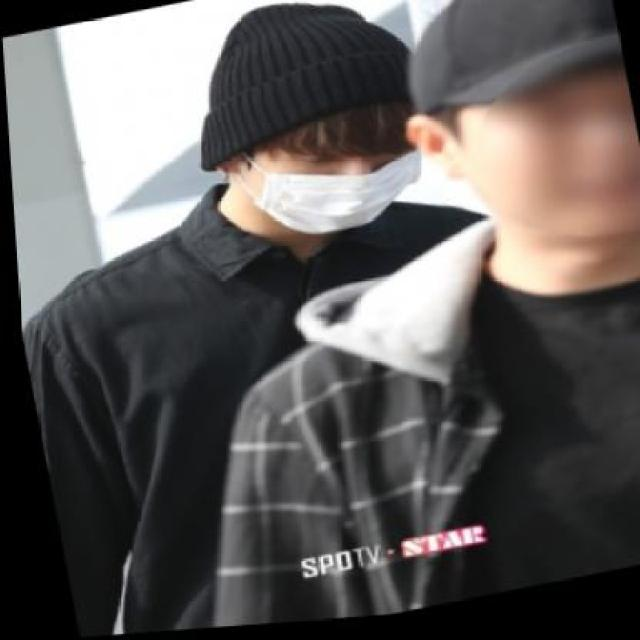hat: (159, 0, 456, 185), (378, 0, 614, 128)
